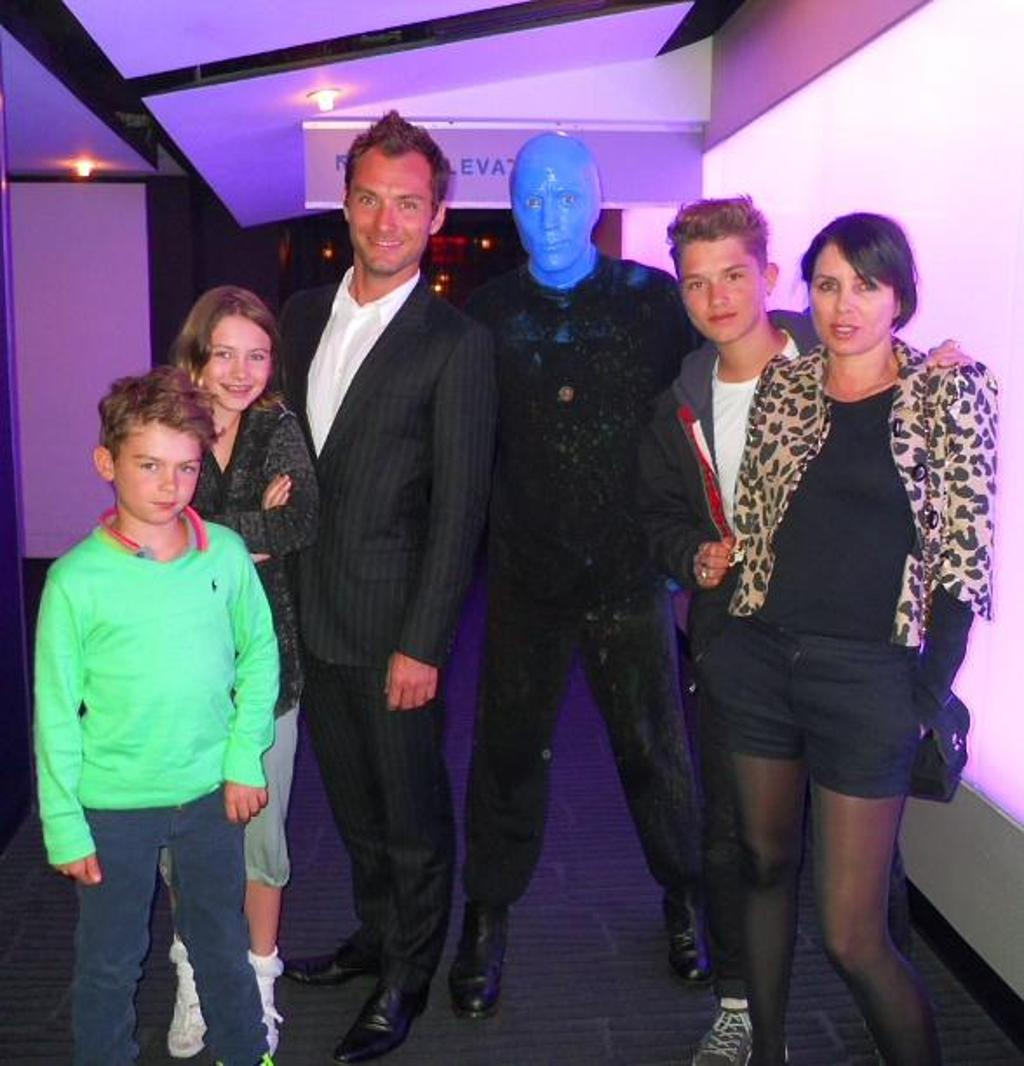face: (348, 154, 429, 273), (512, 156, 593, 270), (812, 250, 895, 348), (687, 237, 762, 343), (121, 427, 198, 525), (204, 318, 269, 410)
